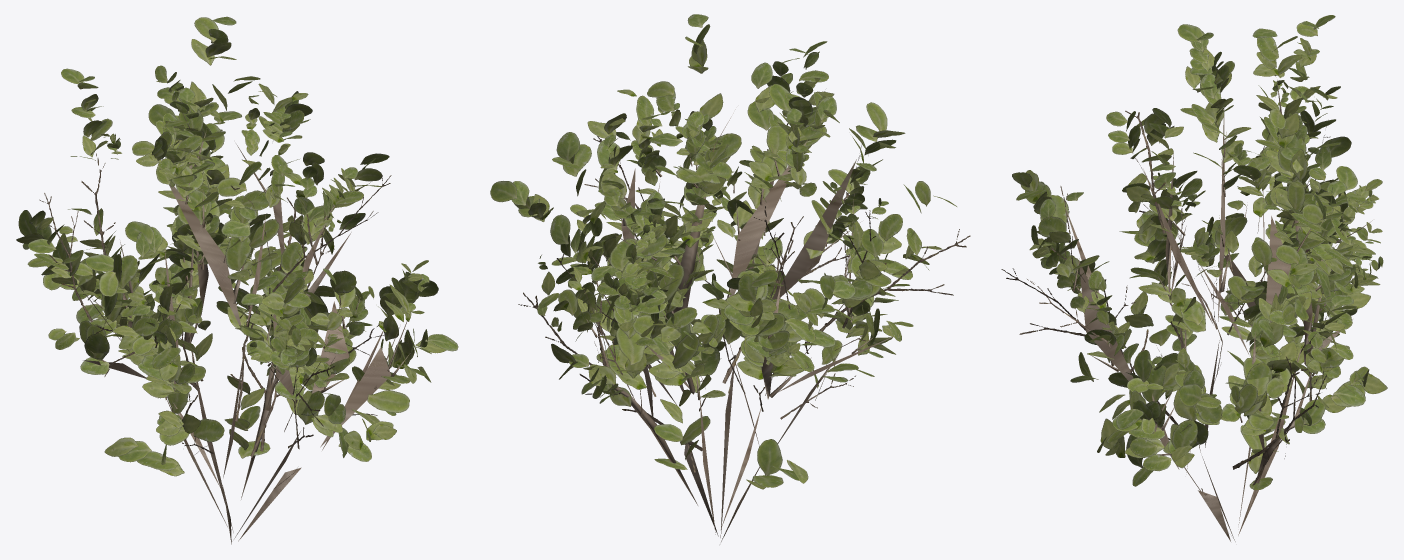
Rendered from searsia_lucida_d_LOD0.glb.
The picture shows the model from 3 angles, left to right: view 1: azimuth 30°, elevation 25°; view 2: azimuth 150°, elevation 25°; view 3: azimuth 270°, elevation 25°; orthographic projection. The views are drawn at different scales.
Parts seen in each view (by area): view 1: searsia_lucida_d_LOD0; view 2: searsia_lucida_d_LOD0; view 3: searsia_lucida_d_LOD0.
Boxes of the visible parts, left/top/right/bottom form: searsia_lucida_d_LOD0: left=16, top=16, right=458, bottom=544; searsia_lucida_d_LOD0: left=490, top=14, right=970, bottom=541; searsia_lucida_d_LOD0: left=1001, top=15, right=1387, bottom=541.
Bounding box in the file's own units: 1.07 × 1.39 × 0.9511.
Materials: 3 (3 with a texture image).
